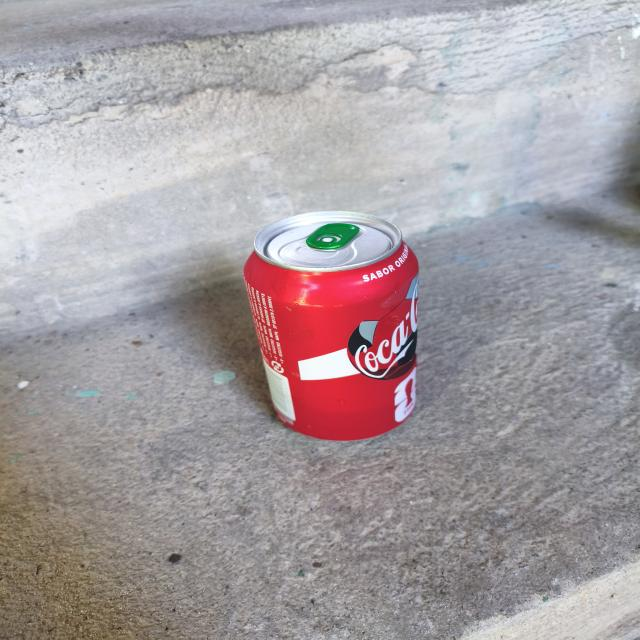Coca Cola: (229, 196, 447, 442)
